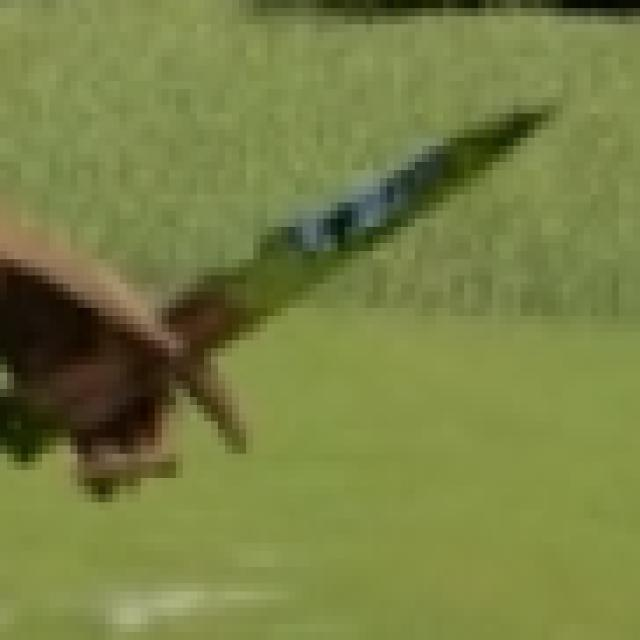Fknife: (16, 88, 579, 480)
